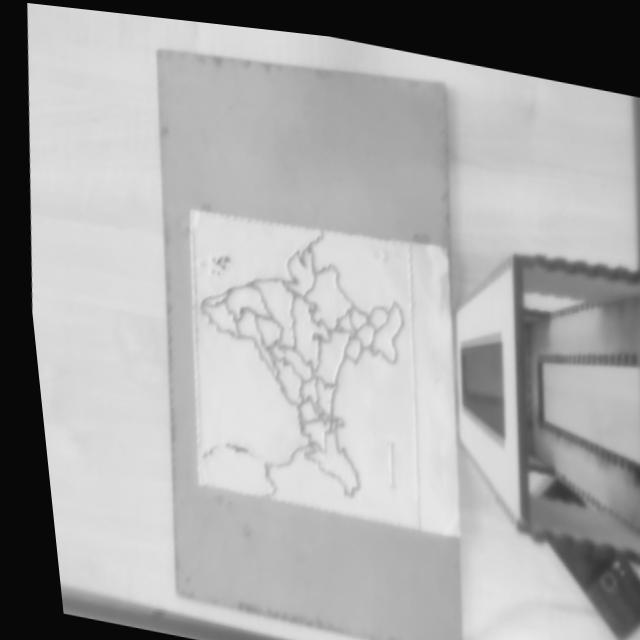map: (190, 203, 419, 536)
